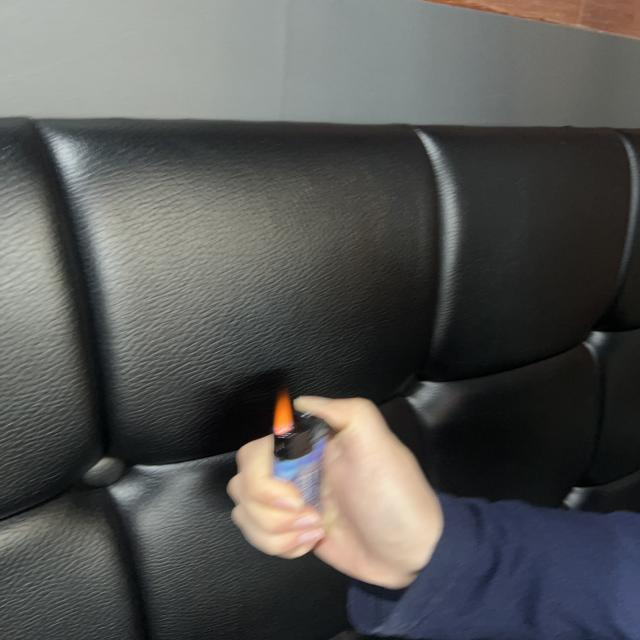fire: (272, 391, 294, 434)
